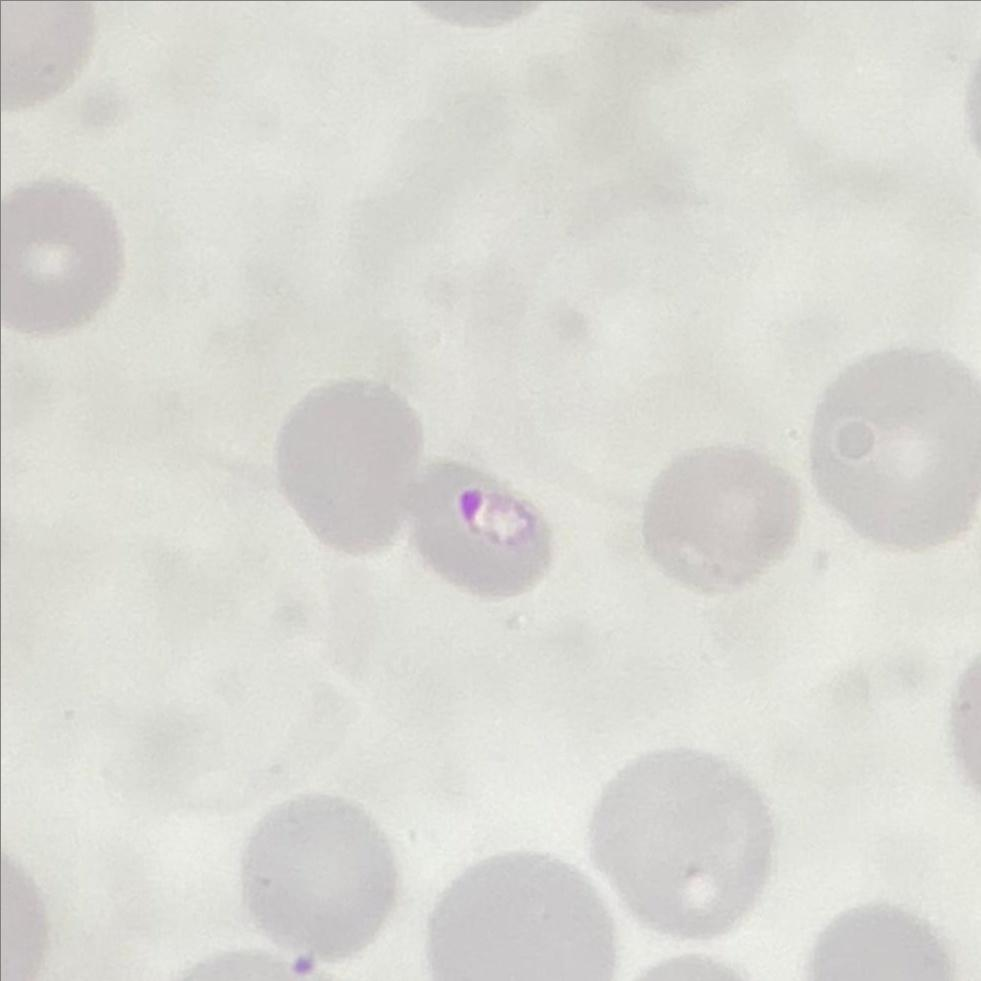Infected: (408, 456, 556, 595)
Uninfected: (584, 748, 774, 940), (812, 346, 981, 550), (240, 792, 401, 954), (278, 378, 427, 553), (428, 844, 617, 981), (640, 448, 804, 593), (0, 180, 121, 339)
